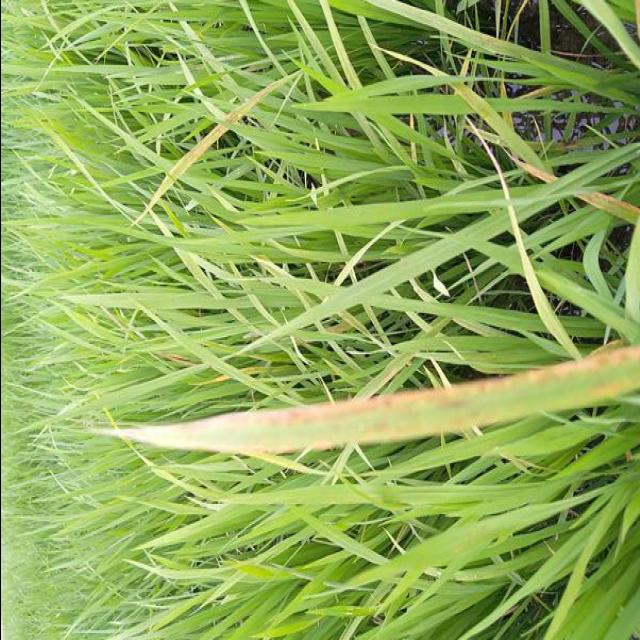Leaf Blight: (105, 352, 640, 459), (464, 113, 580, 360), (145, 82, 279, 211), (366, 354, 414, 399), (577, 191, 640, 225), (450, 82, 495, 120), (383, 51, 445, 76), (505, 156, 556, 181)
